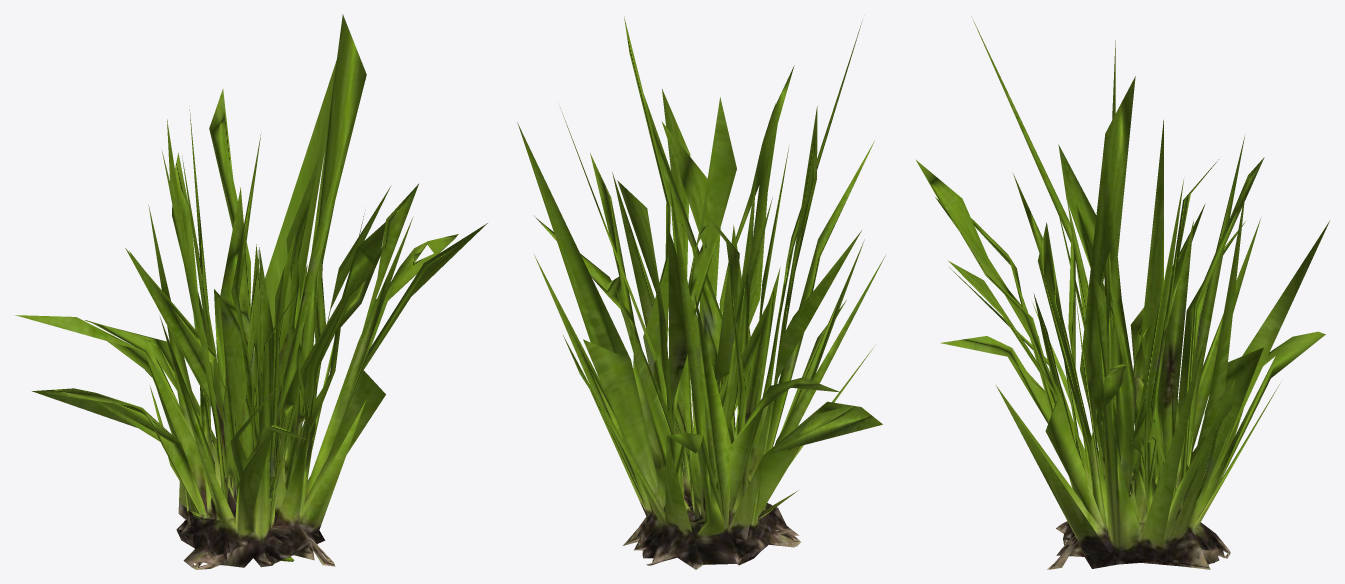
File: grass_green.glb
3 renders of one model, left to right at view 1: azimuth 30°, elevation 25°; view 2: azimuth 150°, elevation 25°; view 3: azimuth 270°, elevation 25°, orthographic. The views are drawn at different scales.
Visible parts, largest first — view 1: frame; view 2: frame; view 3: frame.
Boxes of the visible parts, left/top/right/bottom form: frame: left=15, top=14, right=487, bottom=569; frame: left=517, top=16, right=885, bottom=569; frame: left=915, top=16, right=1329, bottom=569.
Size of the model in its own units: 0.477 by 0.5932 by 0.4299.
1 material, 1 textured.
